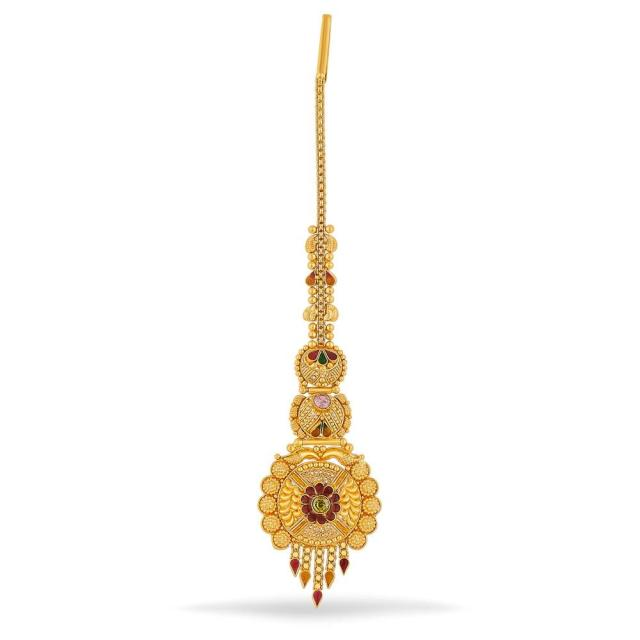missing gem: (314, 394, 331, 409)
